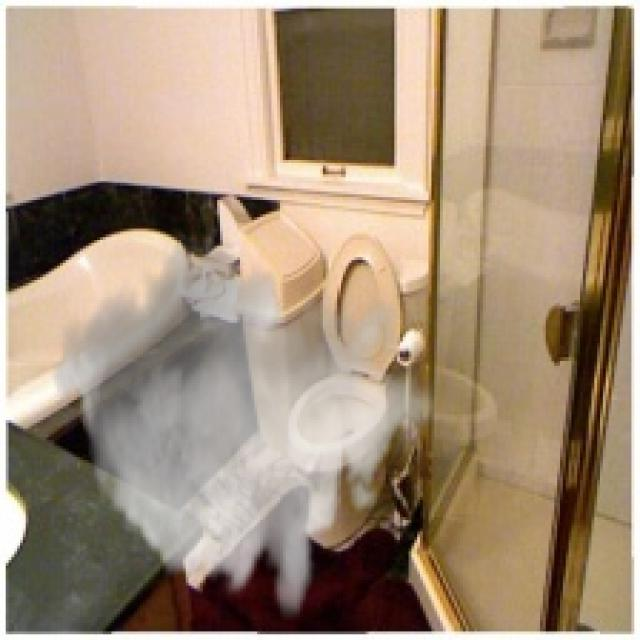smoke: (49, 228, 437, 623)
